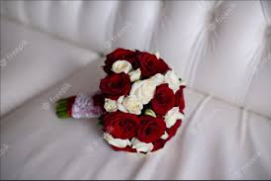RedRose: (101, 109, 137, 141), (139, 113, 165, 147), (102, 73, 133, 98)
